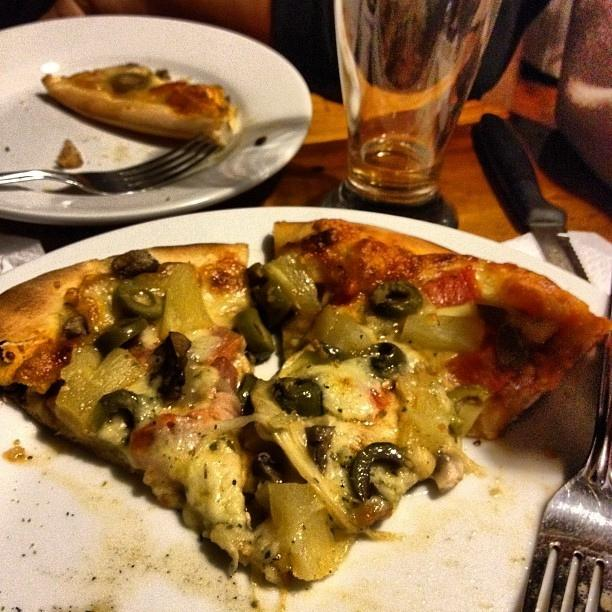pineapple: (54, 344, 146, 444), (269, 483, 340, 580), (158, 264, 216, 342), (263, 253, 322, 315), (311, 305, 377, 355), (400, 315, 484, 353)
